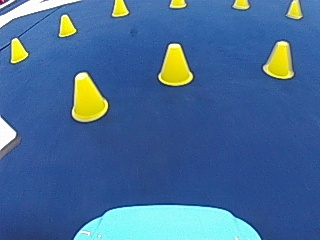cone: (69, 71, 108, 122), (157, 41, 193, 85), (262, 39, 294, 78), (9, 36, 28, 62), (57, 13, 76, 36), (285, 0, 302, 19), (111, 0, 128, 17), (232, 0, 249, 9), (170, 0, 185, 8)
